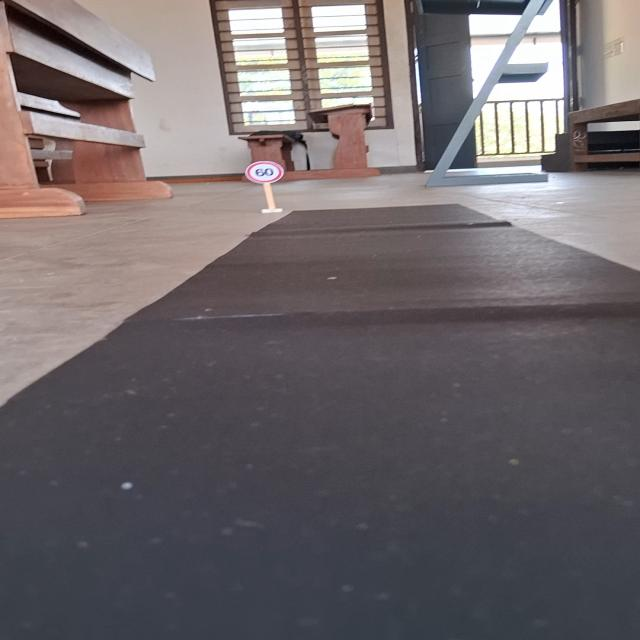Speed60: (244, 160, 285, 184)
